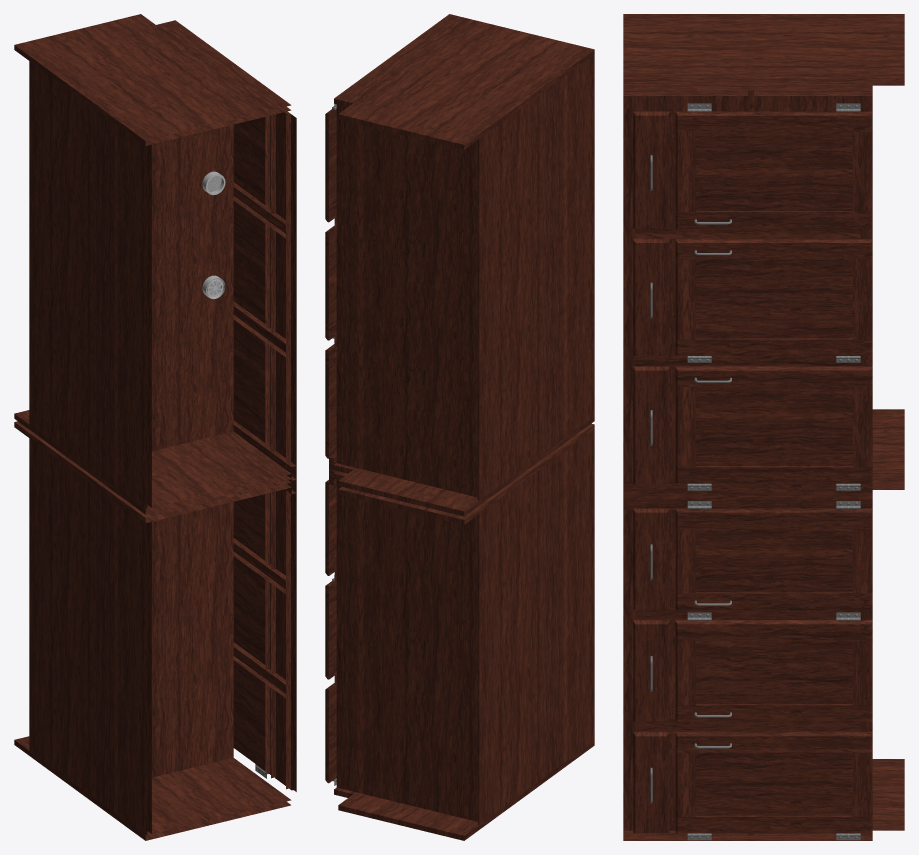
The model's file is sink3.dae.
3 renders of one model, left to right at view 1: azimuth 30°, elevation 25°; view 2: azimuth 150°, elevation 25°; view 3: azimuth 270°, elevation 25°, orthographic. The views are drawn at different scales.
Visible parts, largest first — view 1: instance_82.004; view 2: instance_82.004; view 3: instance_82.004.
Part boxes in pixels (x1,y1,x2,y2): instance_82.004: [14, 14, 296, 840]; instance_82.004: [325, 14, 594, 840]; instance_82.004: [623, 14, 904, 840].
Bounding box in the file's own units: 0.6256 × 0.8755 × 2.57.
